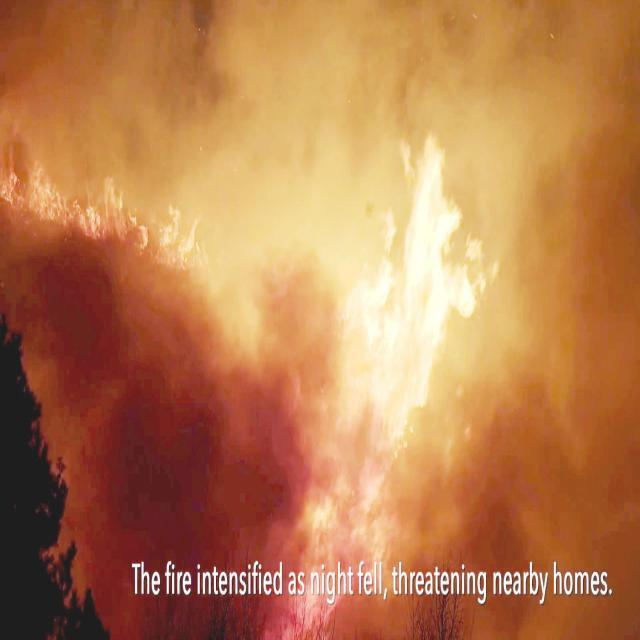Fire: (311, 135, 484, 555), (136, 203, 208, 276), (76, 165, 136, 248), (7, 166, 64, 229)
